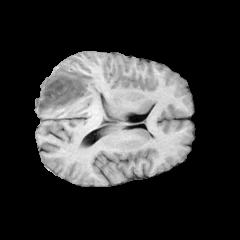glioma: (37, 66, 98, 113)
